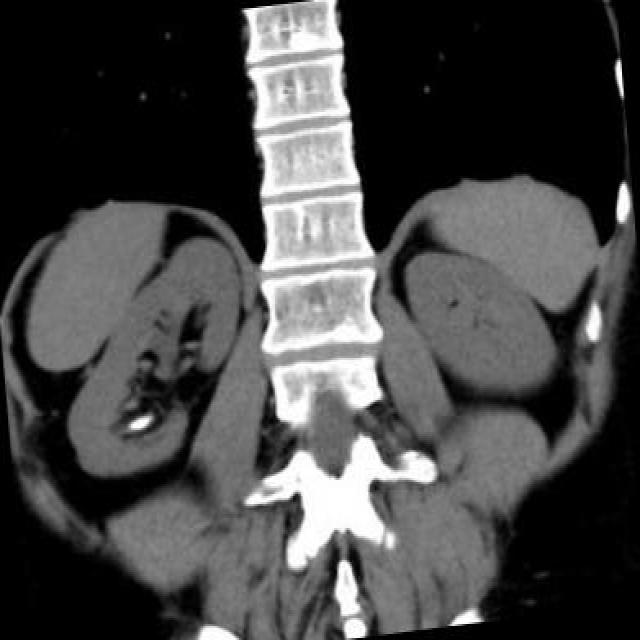Tas_Var: (128, 413, 150, 435)
